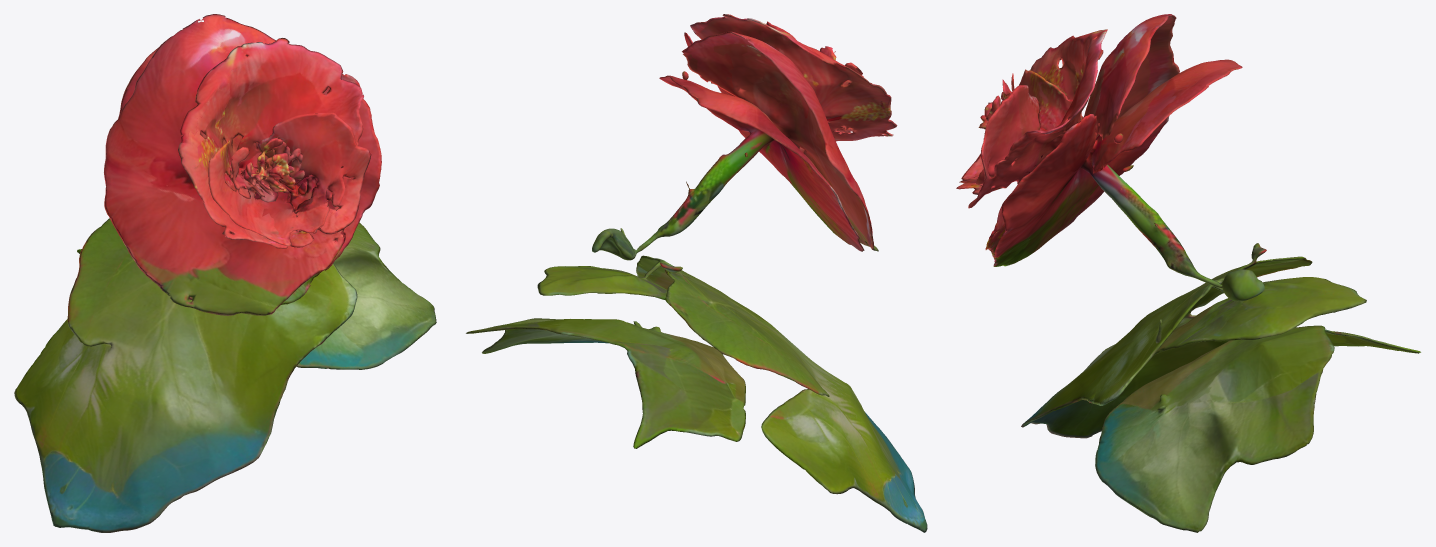
The model's file is shrub0065.gltf.
The picture shows the model from 3 angles, left to right: view 1: azimuth 30°, elevation 25°; view 2: azimuth 150°, elevation 25°; view 3: azimuth 270°, elevation 25°; orthographic projection. The views are drawn at different scales.
Parts seen in each view (by area): view 1: Mesh_0; view 2: Mesh_0; view 3: Mesh_0.
Boxes of the visible parts, box(x1,y1,x2,y2) form: Mesh_0: box(14, 14, 436, 532); Mesh_0: box(466, 14, 927, 532); Mesh_0: box(956, 14, 1420, 532).
Size of the model in its own units: 1.86 by 2 by 1.71.
Materials: 1 (1 with a texture image).
